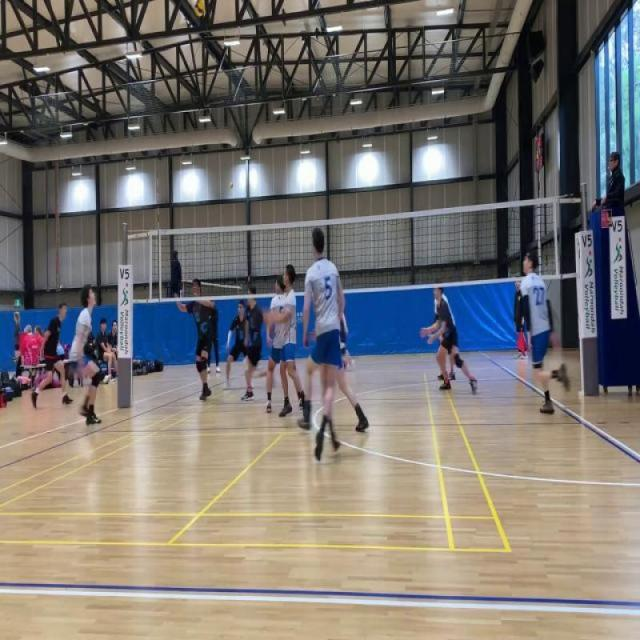volleyball: (193, 0, 206, 18), (228, 182, 234, 190)
